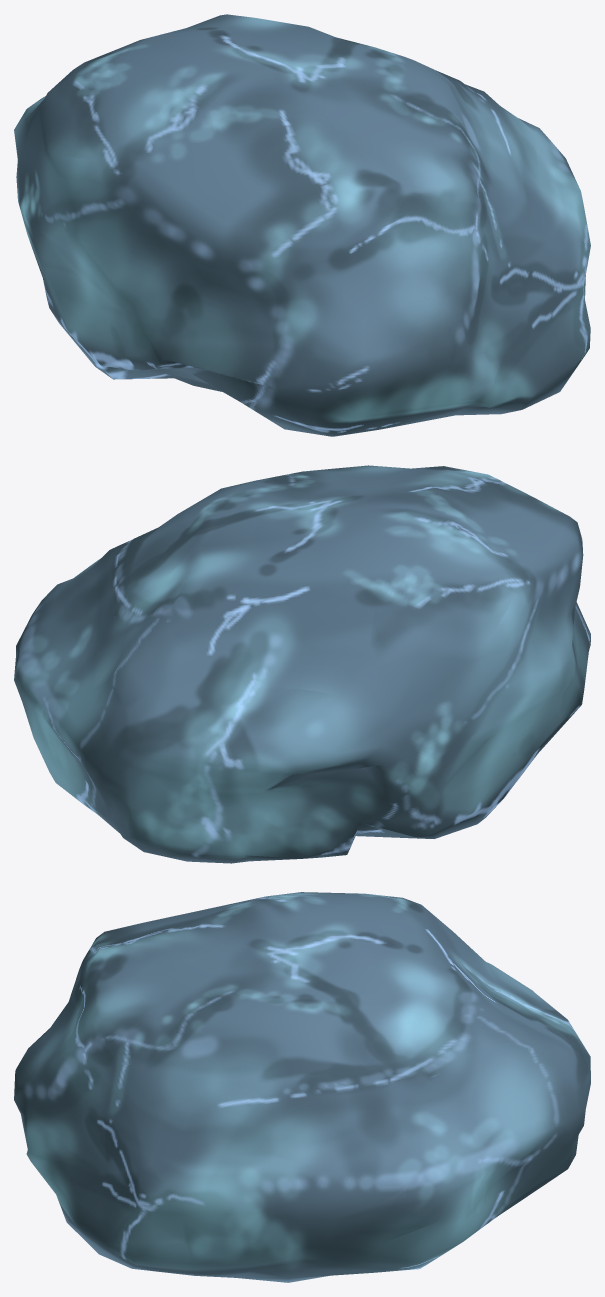
Rendered from stonemesh.fbx.
3 renders of one model, top to bottom at view 1: azimuth 30°, elevation 25°; view 2: azimuth 150°, elevation 25°; view 3: azimuth 270°, elevation 25°, orthographic. The views are drawn at different scales.
Visible parts, largest first — view 1: rock.001; view 2: rock.001; view 3: rock.001.
Part boxes in pixels (box(x1,y1,x2,y2)): rock.001: box(14, 14, 590, 436); rock.001: box(14, 465, 590, 863); rock.001: box(14, 892, 590, 1282).
Bounding box in the file's own units: 70.33 × 42.96 × 83.27.
